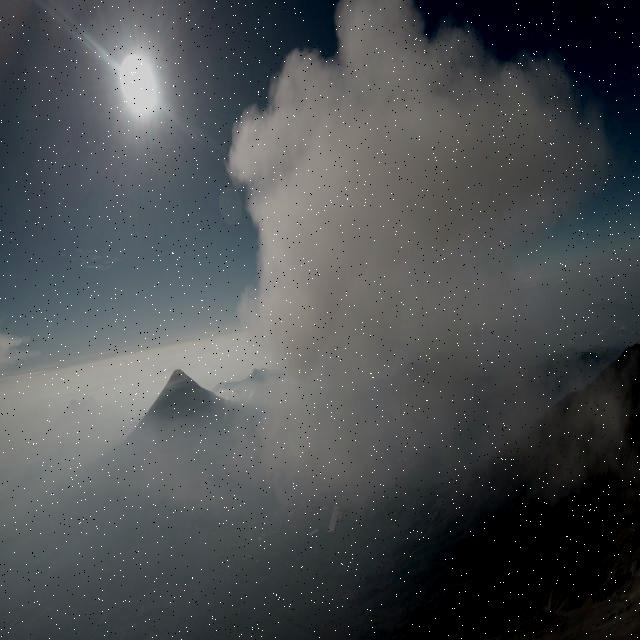Plume: (222, 3, 616, 540)
